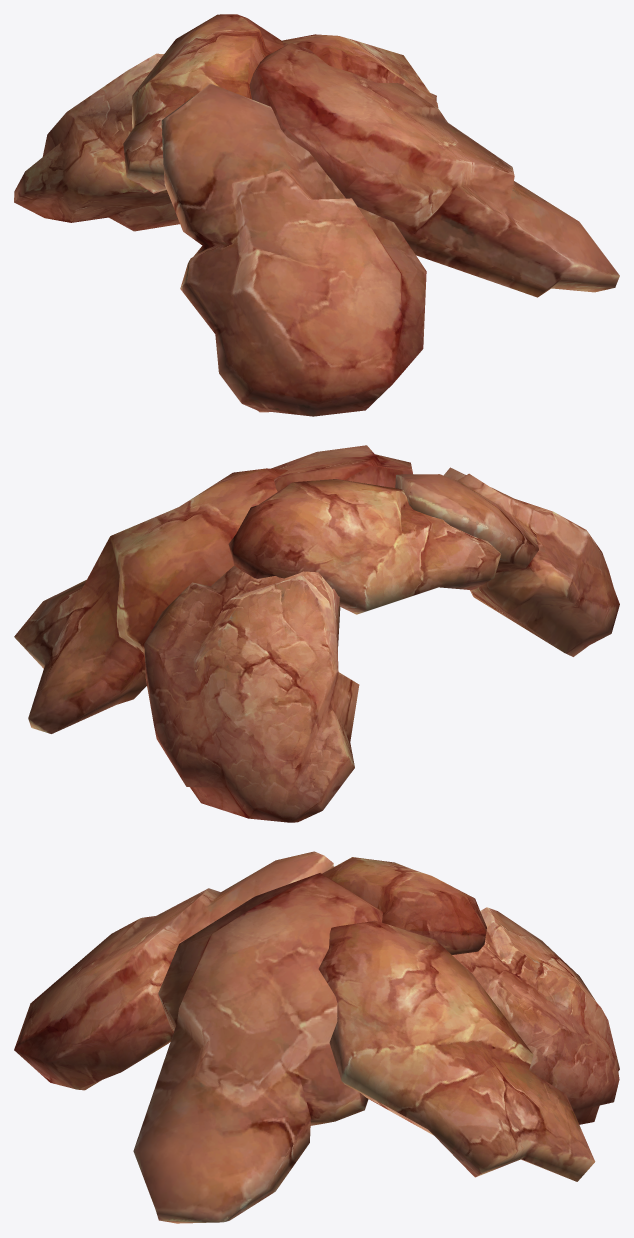
The model's file is kor_env_lair.glb.
The picture shows the model from 3 angles, top to bottom: view 1: azimuth 30°, elevation 25°; view 2: azimuth 150°, elevation 25°; view 3: azimuth 270°, elevation 25°; orthographic projection. The views are drawn at different scales.
Parts seen in each view (by area): view 1: kor_env_lair; view 2: kor_env_lair; view 3: kor_env_lair.
Boxes of the visible parts, x1,y1,x2,y2 form: kor_env_lair: (14, 14, 619, 416); kor_env_lair: (14, 445, 619, 822); kor_env_lair: (14, 851, 619, 1223).
Bounding box in the file's own units: 0.6502 × 0.3691 × 0.8276.
Materials: 1 (1 with a texture image).
